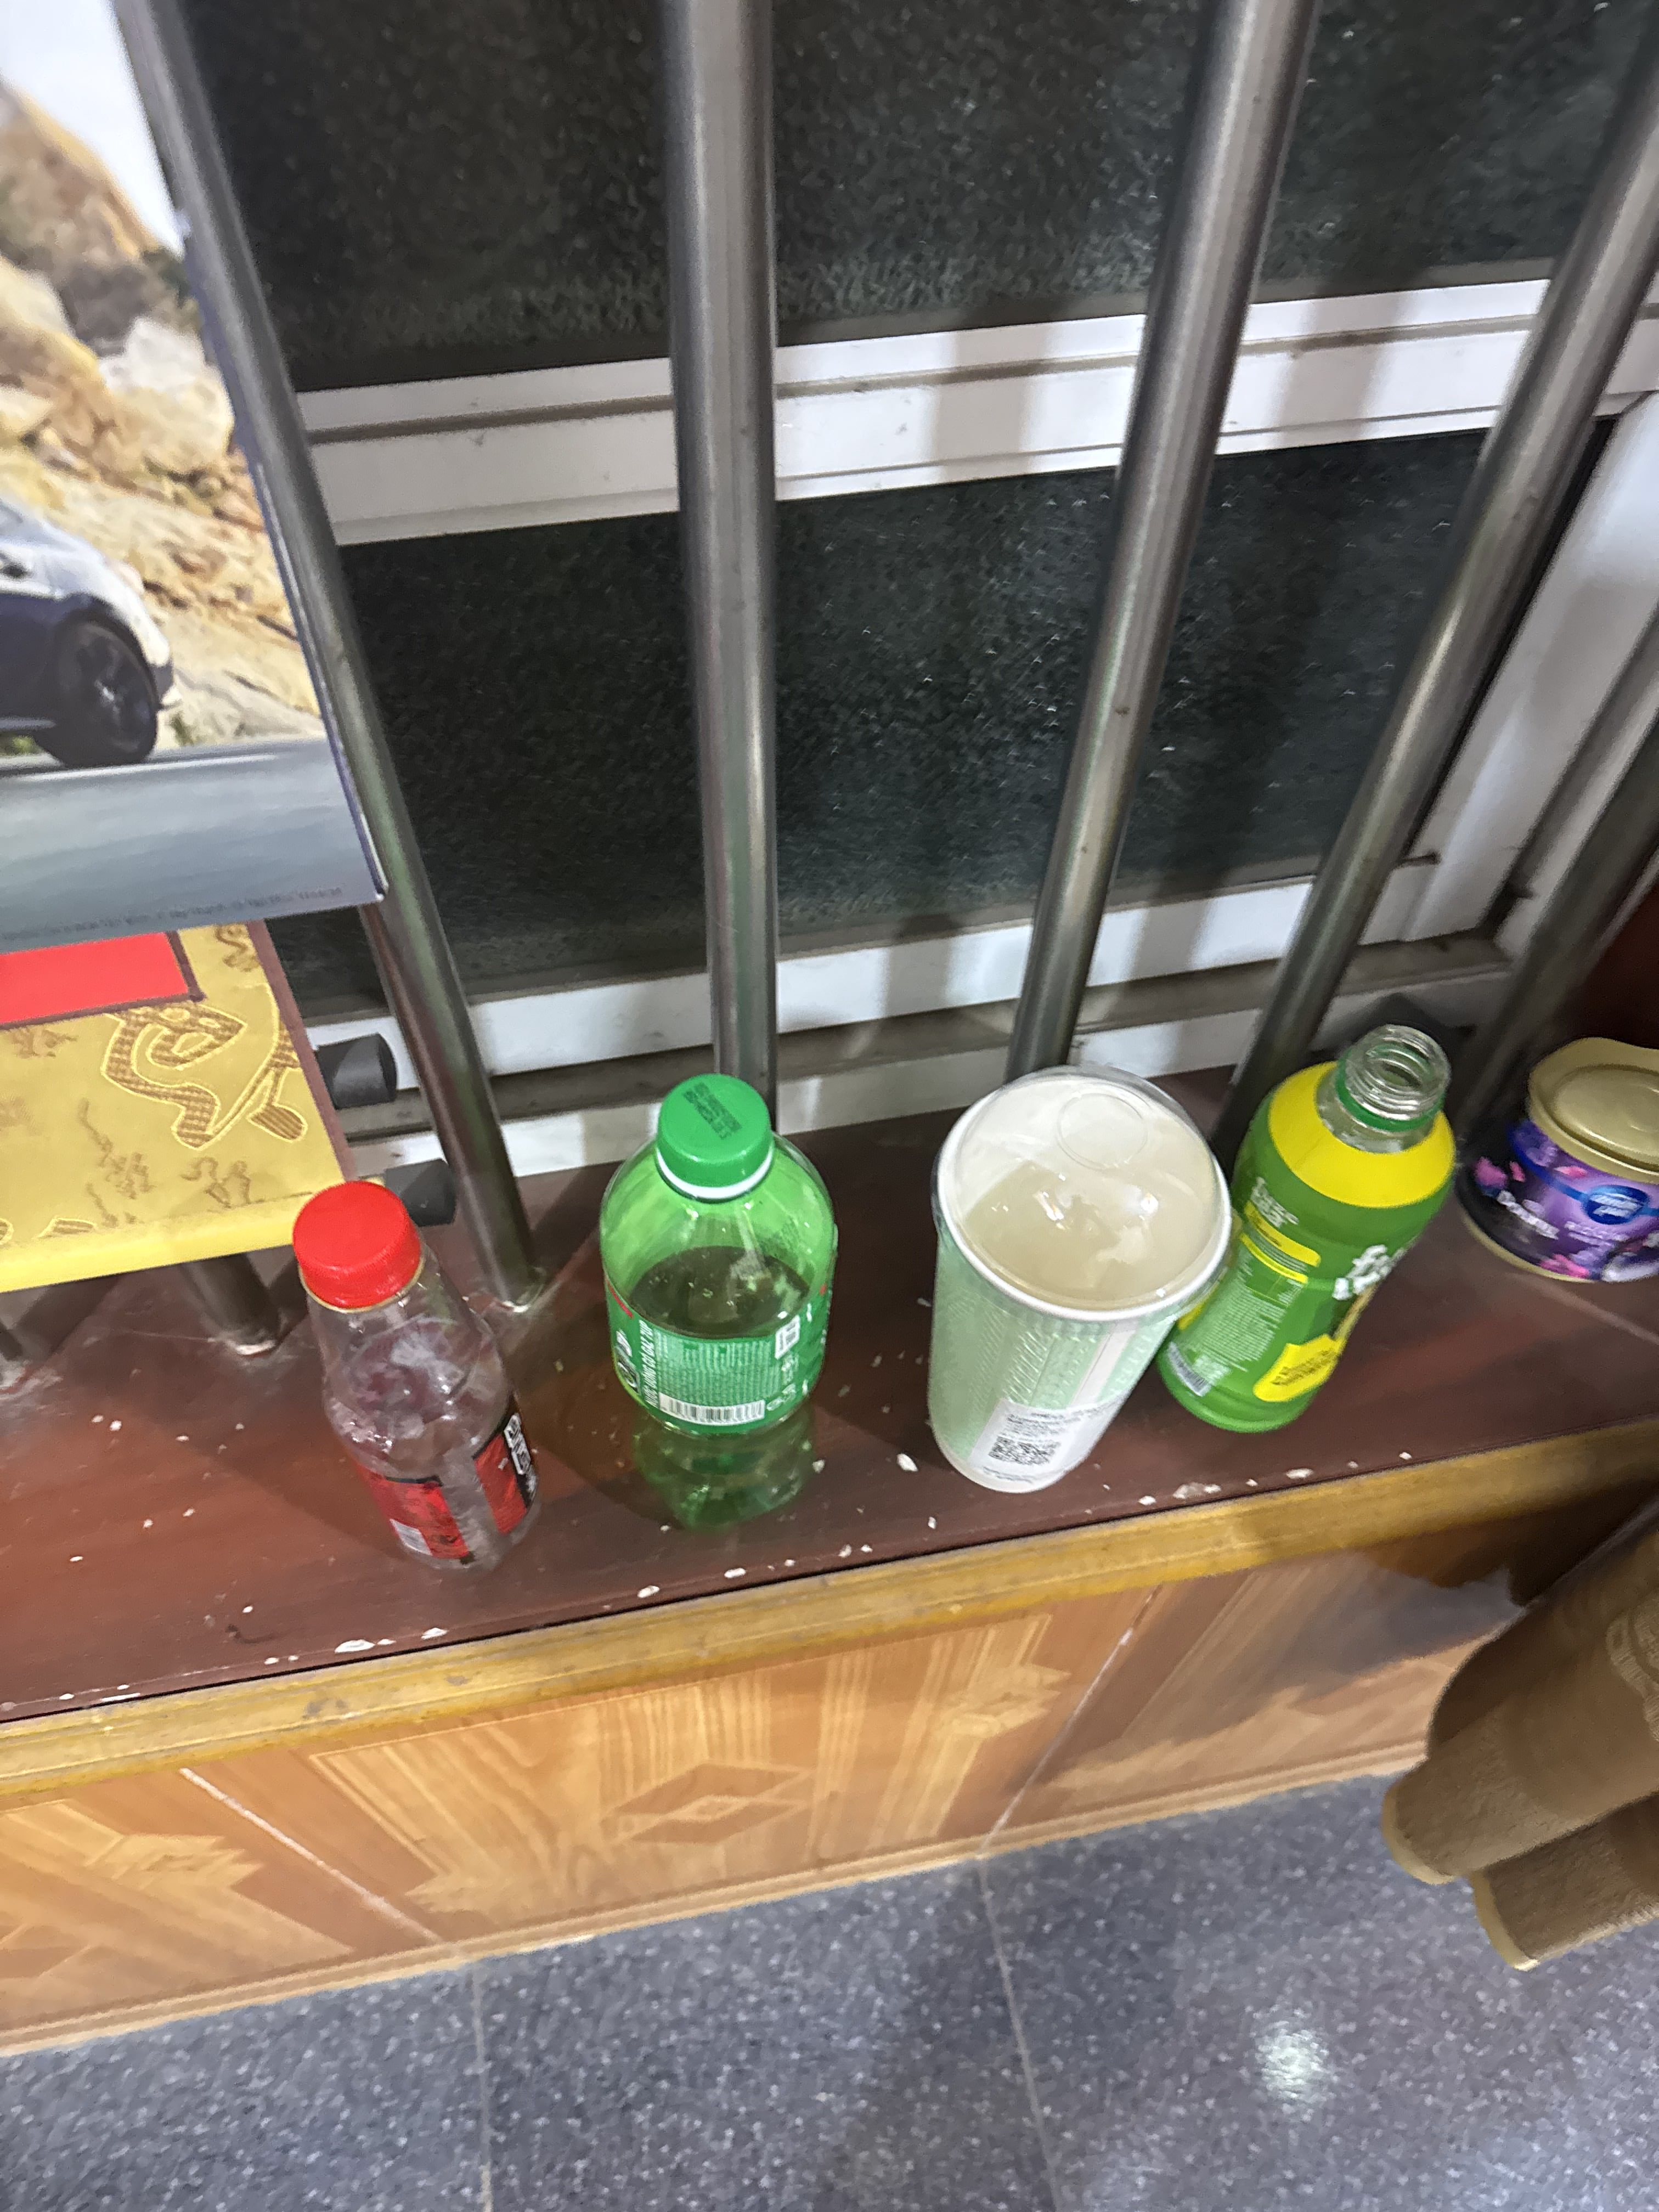2: (882, 1000, 1239, 1585)
bottle: (563, 1042, 884, 1585), (1154, 1007, 1497, 1446), (275, 1118, 552, 1622)
